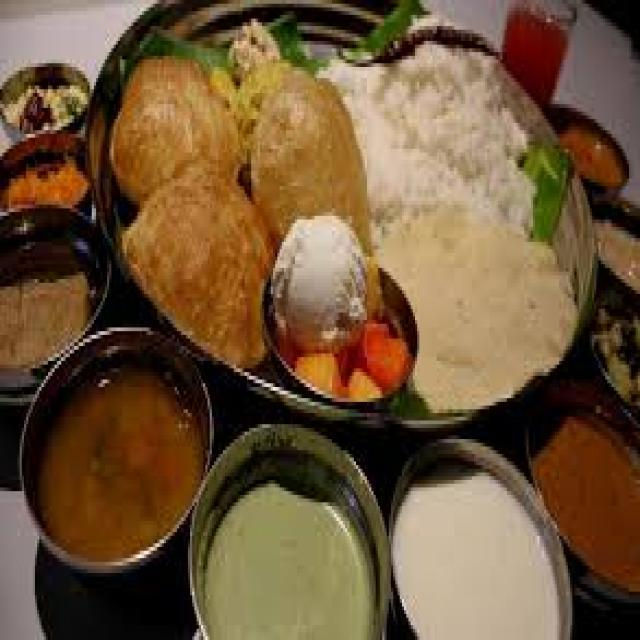dal: (380, 432, 587, 640), (18, 352, 211, 569)
sambar-rasam: (21, 355, 206, 573)
sweet: (0, 211, 108, 382)
